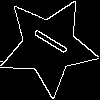I: (23, 21, 70, 57)
